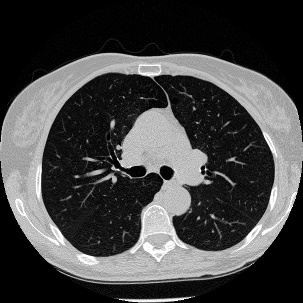PN: (210, 126, 214, 130)
